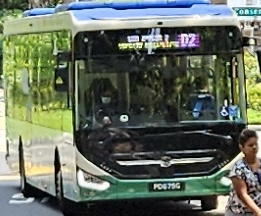bus: (176, 32, 199, 47)
